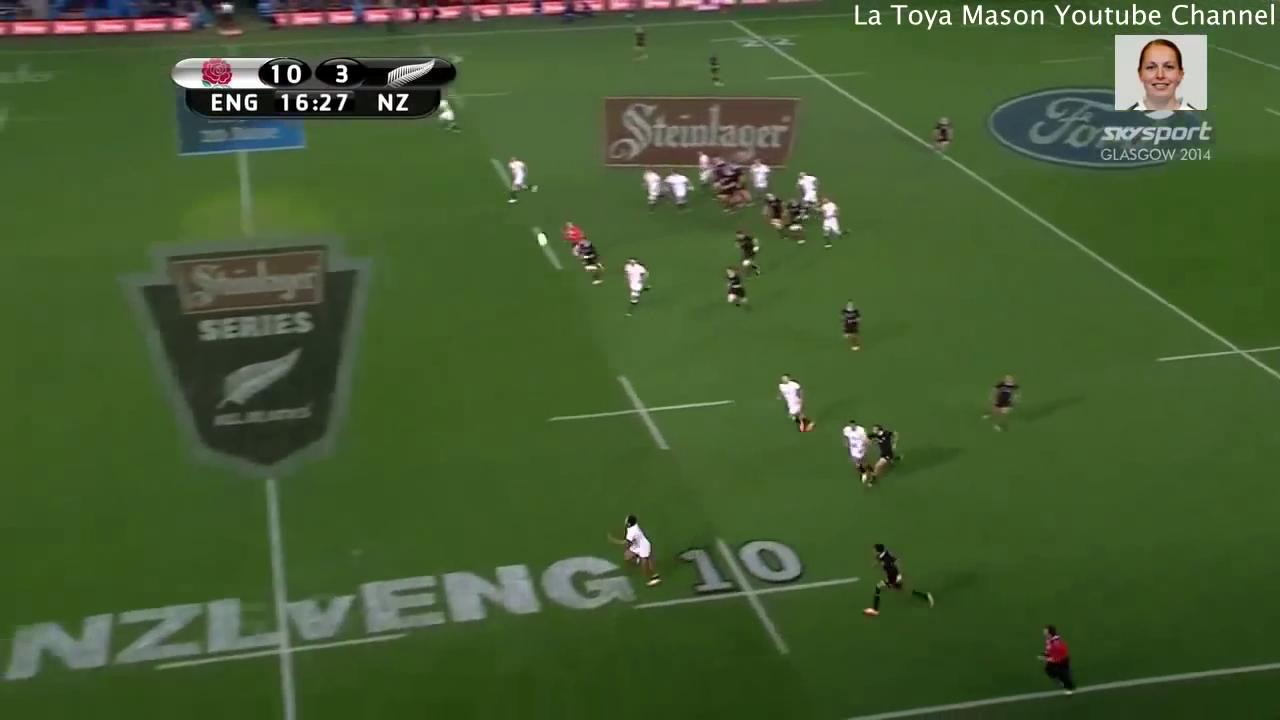10_metre: (629, 536, 866, 662), (540, 373, 743, 452)
player: (857, 534, 942, 617), (603, 503, 671, 589), (1033, 616, 1084, 701), (771, 370, 825, 443), (973, 368, 1024, 437), (829, 415, 878, 476), (863, 420, 910, 481), (830, 292, 869, 356), (500, 153, 544, 203), (815, 193, 853, 248), (619, 256, 657, 307), (429, 87, 467, 135), (715, 262, 749, 309), (779, 195, 810, 245), (629, 23, 662, 69), (577, 236, 606, 287), (635, 165, 665, 214), (732, 229, 760, 277), (664, 166, 692, 212), (700, 49, 730, 90), (793, 168, 821, 210), (925, 113, 951, 157), (750, 156, 773, 196), (761, 189, 780, 231), (725, 171, 745, 206), (560, 220, 586, 246), (697, 148, 710, 189)
